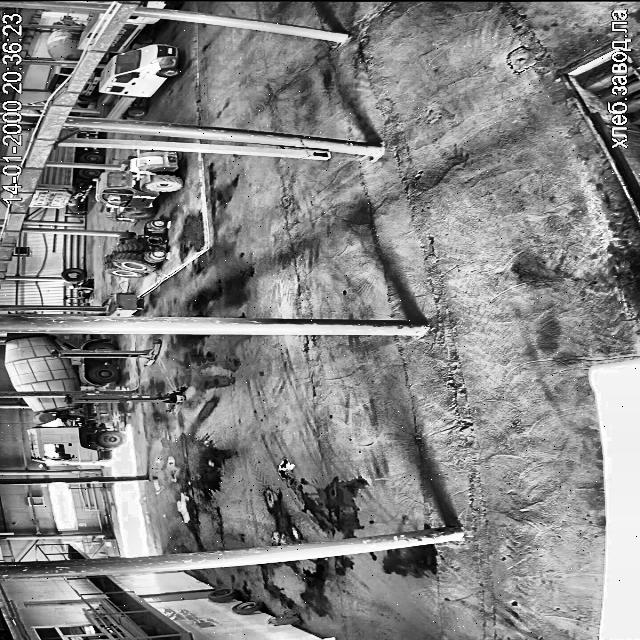car lift: (66, 388, 185, 410), (52, 342, 161, 365)
fire extinguisher: (268, 616, 300, 624)
tractor: (96, 151, 181, 221), (103, 220, 165, 278)
truck: (25, 396, 124, 464), (4, 334, 117, 392), (100, 44, 180, 119), (28, 167, 100, 208), (108, 16, 157, 52), (46, 29, 81, 60), (48, 146, 102, 163), (78, 12, 102, 48), (77, 69, 100, 106), (45, 65, 73, 91), (60, 130, 97, 140), (140, 0, 178, 8), (53, 16, 76, 24)
